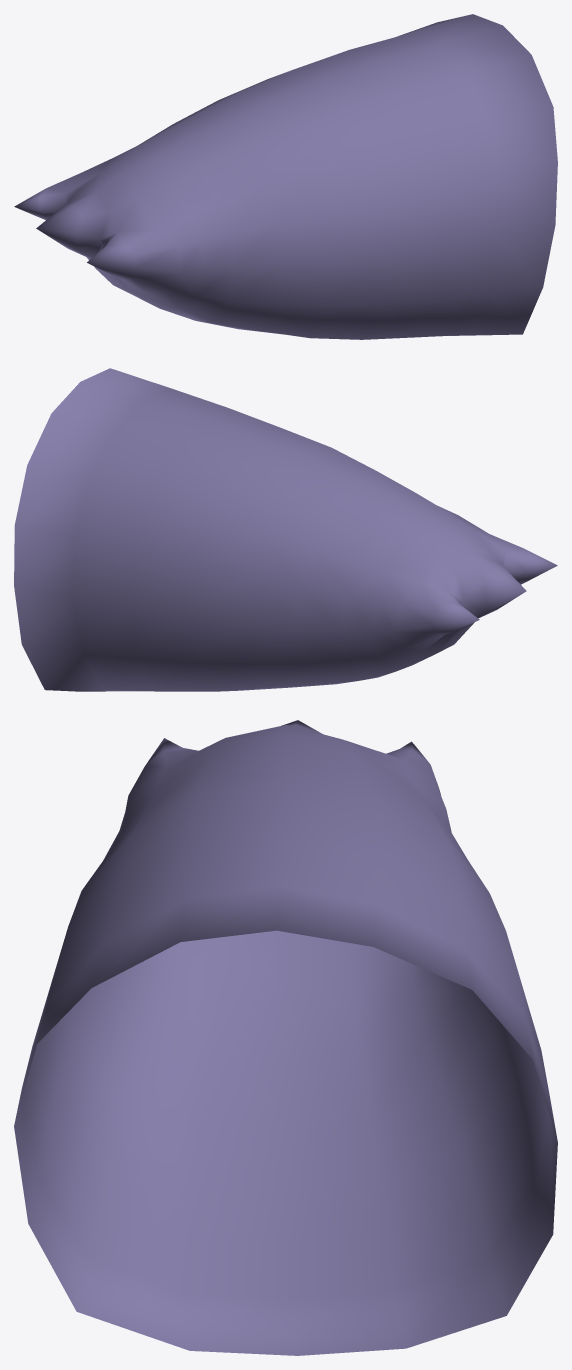
File: gengarBrazoDer.dae
The picture shows the model from 3 angles, top to bottom: view 1: azimuth 30°, elevation 25°; view 2: azimuth 150°, elevation 25°; view 3: azimuth 270°, elevation 25°; orthographic projection. The views are drawn at different scales.
Parts seen in each view (by area): view 1: brazoDer; view 2: brazoDer; view 3: brazoDer.
Part boxes in pixels (x1,y1,x2,y2): brazoDer: (14, 14, 557, 339); brazoDer: (14, 368, 557, 691); brazoDer: (14, 720, 557, 1355).
Size of the model in its own units: 5.76 by 3.37 by 3.62.
